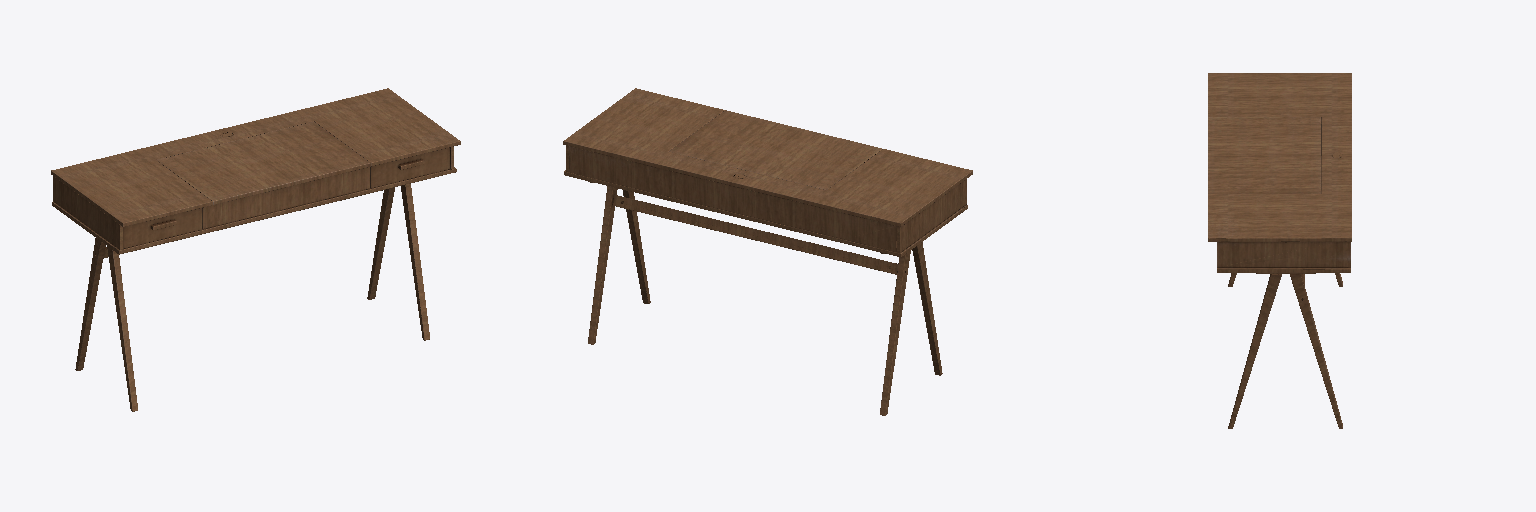
3 renders of one model, left to right at view 1: azimuth 30°, elevation 25°; view 2: azimuth 150°, elevation 25°; view 3: azimuth 270°, elevation 25°, orthographic.
Visible parts, largest first — view 1: solid; view 2: solid; view 3: solid.
Part boxes in pixels (left/top/right/bottom): solid: left=51, top=88, right=460, bottom=411; solid: left=563, top=88, right=972, bottom=415; solid: left=1208, top=73, right=1351, bottom=428.
Bounding box in the file's own units: 1.87 × 1.07 × 0.6921.
1 materials, 1 textured.